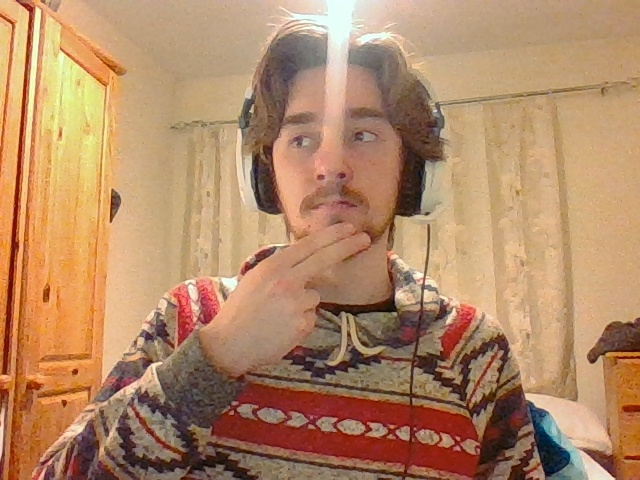afternoon: (200, 220, 372, 388)
